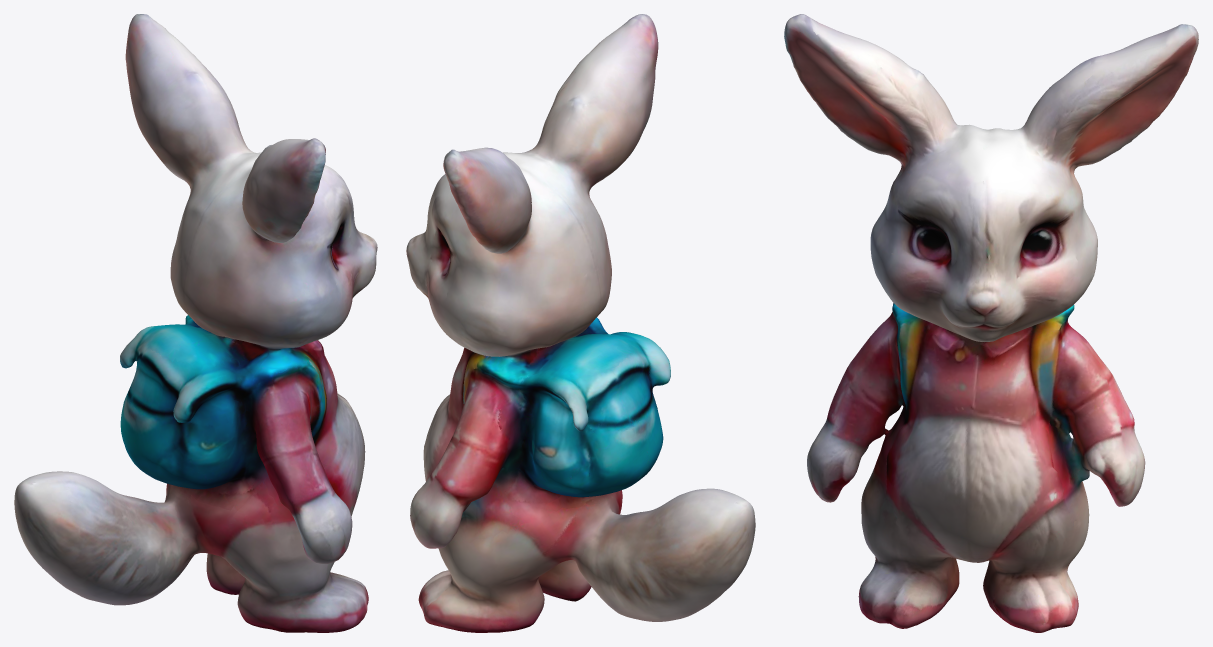
The model's file is teste01.glb.
The picture shows the model from 3 angles, left to right: view 1: azimuth 30°, elevation 25°; view 2: azimuth 150°, elevation 25°; view 3: azimuth 270°, elevation 25°; orthographic projection. The views are drawn at different scales.
Visible parts, largest first — view 1: geometry_0; view 2: geometry_0; view 3: geometry_0.
Boxes of the visible parts, left/top/right/bottom form: geometry_0: left=14, top=14, right=377, bottom=632; geometry_0: left=406, top=14, right=755, bottom=632; geometry_0: left=784, top=14, right=1198, bottom=632.
Size of the model in its own units: 0.599 by 0.8707 by 0.5752.
1 material, 1 textured.
